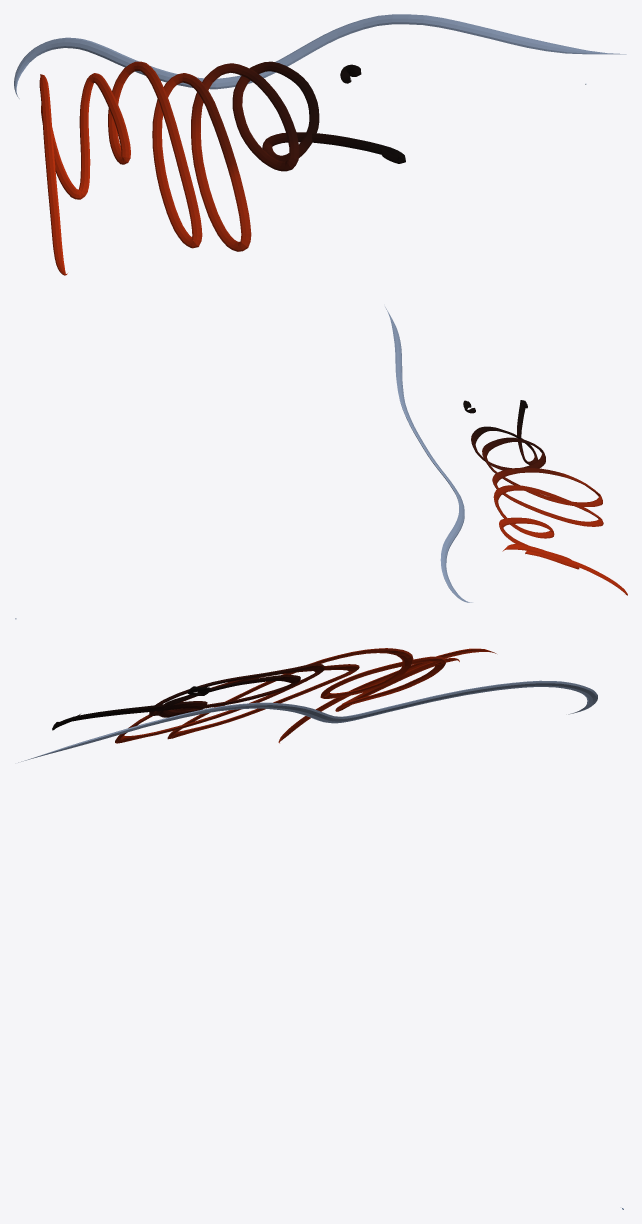
File: gallery_left.fbx
3 views of the same model, one above another, from view 1: azimuth 30°, elevation 25°; view 2: azimuth 150°, elevation 25°; view 3: azimuth 270°, elevation 25° (orthographic). The views are drawn at different scales.
Visible parts, largest first — view 1: NewLayer0; view 2: NewLayer0; view 3: NewLayer0.
Boxes of the visible parts, x1=… form: NewLayer0: x1=14, y1=14, x2=626, y2=275; NewLayer0: x1=15, y1=307, x2=627, y2=619; NewLayer0: x1=18, y1=648, x2=623, y2=1209.
Bounding box in the file's own units: 86375 × 34539 × 59997.
